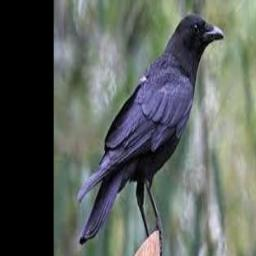Crow: (76, 13, 223, 256)
